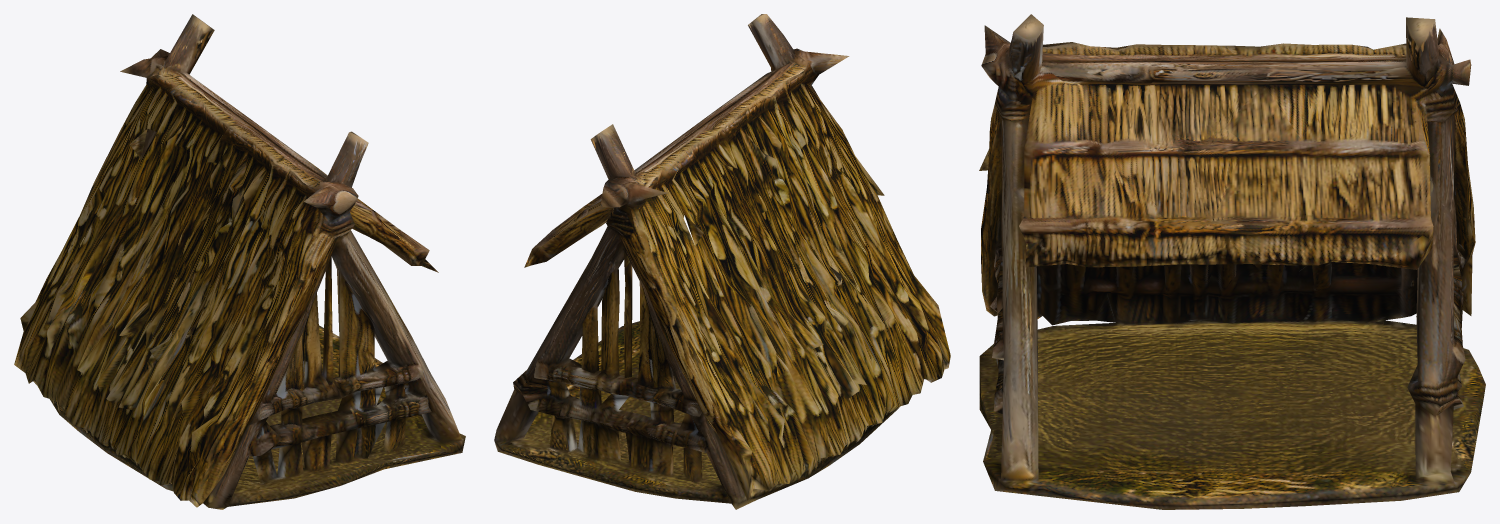
Rendered from shelter.glb.
3 views of the same model, side by side, from view 1: azimuth 30°, elevation 25°; view 2: azimuth 150°, elevation 25°; view 3: azimuth 270°, elevation 25° (orthographic). The views are drawn at different scales.
Visible parts, largest first — view 1: tripo_node_9b72a534-7d2c-415f-9b00-64c323da6e49; view 2: tripo_node_9b72a534-7d2c-415f-9b00-64c323da6e49; view 3: tripo_node_9b72a534-7d2c-415f-9b00-64c323da6e49.
Part boxes in pixels (bbox=[...]): tripo_node_9b72a534-7d2c-415f-9b00-64c323da6e49: bbox=[14, 14, 465, 509]; tripo_node_9b72a534-7d2c-415f-9b00-64c323da6e49: bbox=[494, 14, 950, 509]; tripo_node_9b72a534-7d2c-415f-9b00-64c323da6e49: bbox=[979, 14, 1485, 509].
Size of the model in its own units: 0.8543 by 0.9201 by 0.9954.
1 material, 1 textured.
